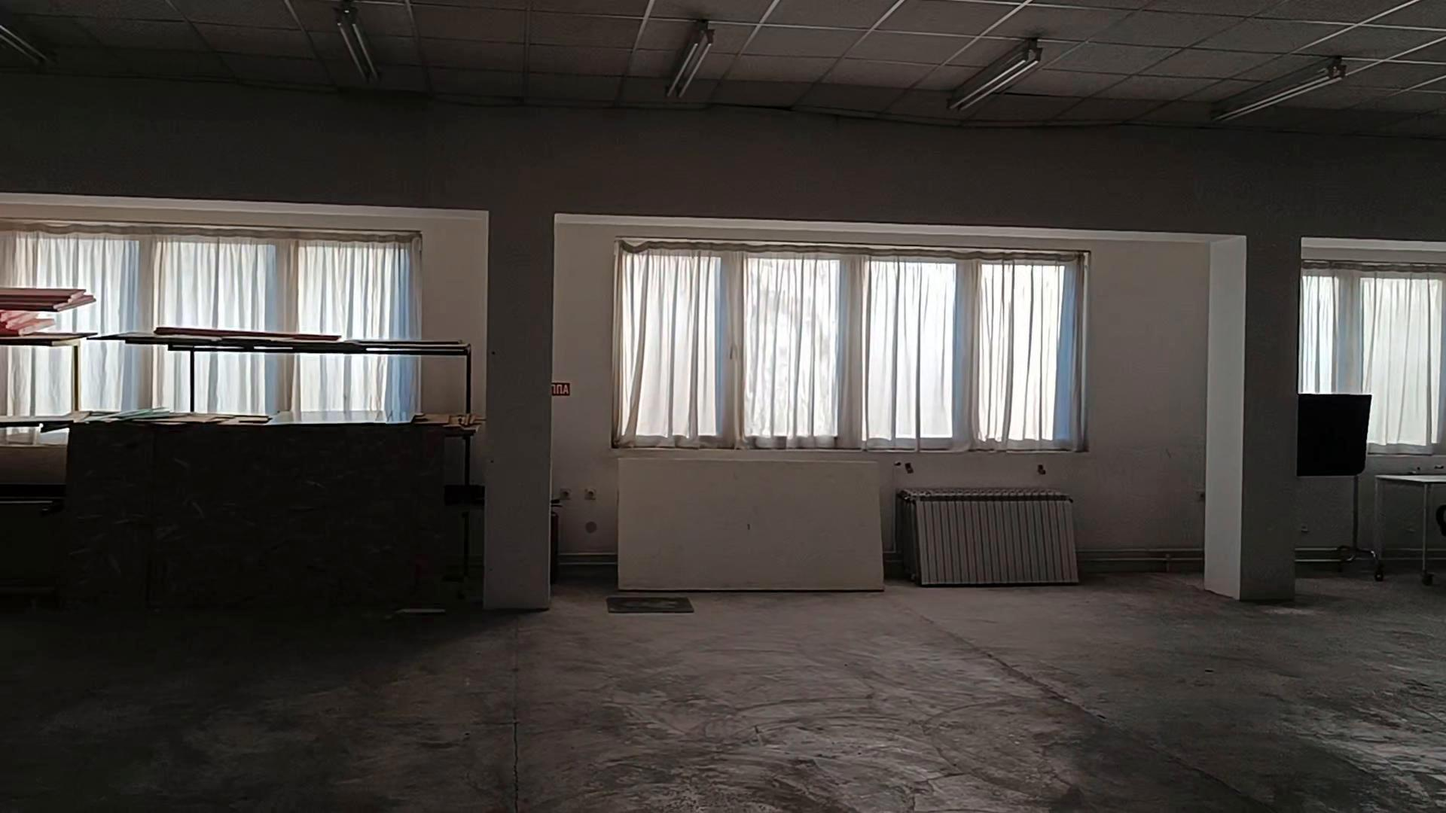ceiling: (0, 0, 1445, 137)
floor: (0, 575, 1445, 812)
wall: (0, 83, 1445, 605), (1084, 250, 1204, 557)
